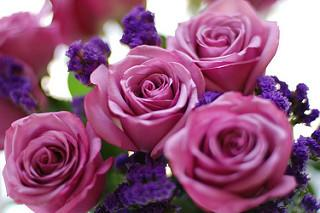Rose: (178, 84, 296, 213), (85, 44, 205, 153), (3, 104, 108, 213), (170, 2, 285, 90)
